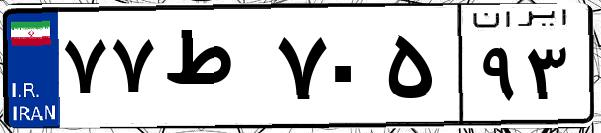0: (330, 28, 385, 110)
3: (525, 38, 570, 115)
5: (385, 28, 445, 110)
7: (270, 28, 330, 110), (57, 26, 110, 100), (110, 28, 158, 98)
9: (475, 38, 525, 113)
ط: (158, 20, 270, 120)
